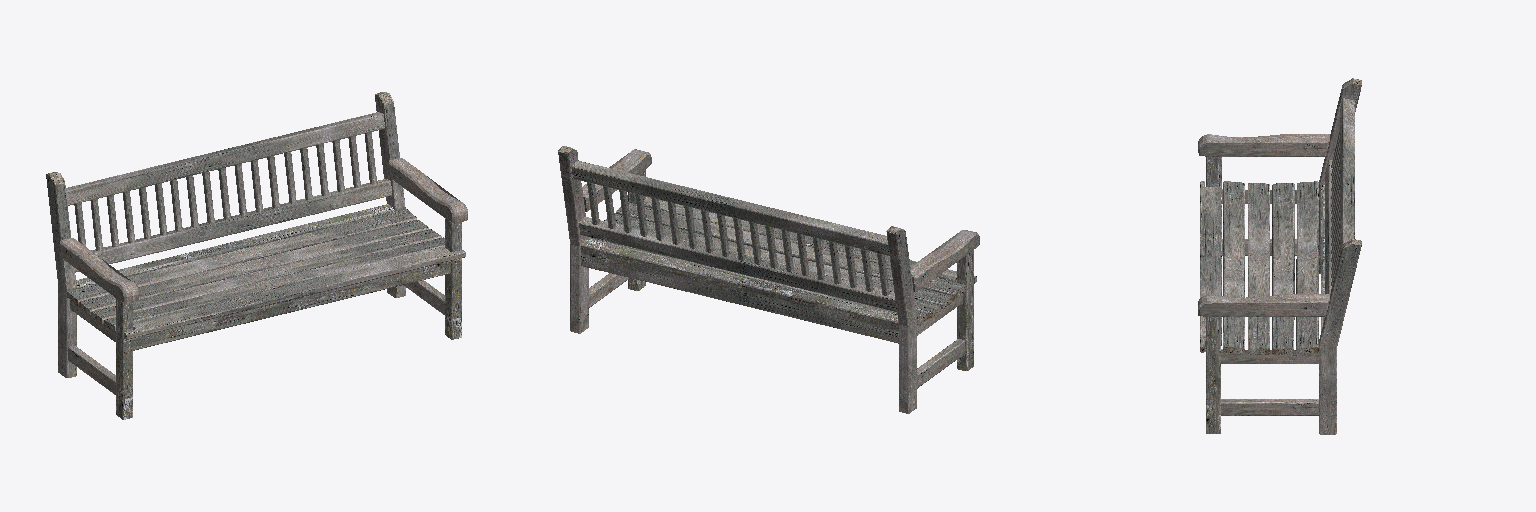
3 views of the same model, side by side, from view 1: azimuth 30°, elevation 25°; view 2: azimuth 150°, elevation 25°; view 3: azimuth 270°, elevation 25° (orthographic).
Parts seen in each view (by area): view 1: Mesh32_tramek06_2_lavicka1_lavicka_01_1_Model, Mesh25_deska03_1_lavicka1_lavicka_01_1_Model, Mesh27_tramek06_1_lavicka1_lavicka_01_1_Model, Mesh22_deska02_4_lavicka1_lavicka_01_1_Model, Mesh3_tramek01_1_lavicka1_lavicka_01_1_Model, Mesh4_deska02_1_lavicka1_lavicka_01_1_Model, Mesh12_deska02_3_lavicka1_lavicka_01_1_Model, Mesh29_tramek03_1_lavicka1_lavicka_01_1_Model, Mesh11_deska02_2_lavicka1_lavicka_01_1_Model, Mesh16_tramek05_1_lavicka1_lavicka_01_1_Model, Mesh34_operka2_lavicka1_lavicka_01_1_Model, Mesh15_tramek02_2_lavicka1_lavicka_01_1_Model (+6 smaller); view 2: Mesh16_tramek05_1_lavicka1_lavicka_01_1_Model, Mesh32_tramek06_2_lavicka1_lavicka_01_1_Model, Mesh27_tramek06_1_lavicka1_lavicka_01_1_Model, Mesh29_tramek03_1_lavicka1_lavicka_01_1_Model, Mesh38_tramek03_2_lavicka1_lavicka_01_1_Model, Mesh11_deska02_2_lavicka1_lavicka_01_1_Model, Mesh12_deska02_3_lavicka1_lavicka_01_1_Model, Mesh15_tramek02_2_lavicka1_lavicka_01_1_Model, Mesh25_deska03_1_lavicka1_lavicka_01_1_Model, Mesh17_operka_bok1_operka1_lavicka1_lavicka_01_1_Model, Mesh31_tramek04_2_lavicka1_lavicka_01_1_Model, Mesh34_operka2_lavicka1_lavicka_01_1_Model (+3 smaller); view 3: Mesh38_tramek03_2_lavicka1_lavicka_01_1_Model, Mesh4_deska02_1_lavicka1_lavicka_01_1_Model, Mesh11_deska02_2_lavicka1_lavicka_01_1_Model, Mesh22_deska02_4_lavicka1_lavicka_01_1_Model, Mesh12_deska02_3_lavicka1_lavicka_01_1_Model, Mesh18_operka1_lavicka1_lavicka_01_1_Model, Mesh25_deska03_1_lavicka1_lavicka_01_1_Model, Mesh32_tramek06_2_lavicka1_lavicka_01_1_Model, Mesh33_operka_bok2_operka2_lavicka1_lavicka_01_1_Model, Mesh10_tramek02_1_lavicka1_lavicka_01_1_Model, Mesh6_tramek04_1_lavicka1_lavicka_01_1_Model, Mesh29_tramek03_1_lavicka1_lavicka_01_1_Model (+3 smaller).
Boxes of the visible parts, <box> form: Mesh32_tramek06_2_lavicka1_lavicka_01_1_Model: <box>66,112,384,205</box>; Mesh25_deska03_1_lavicka1_lavicka_01_1_Model: <box>124,247,465,339</box>; Mesh27_tramek06_1_lavicka1_lavicka_01_1_Model: <box>75,179,391,272</box>; Mesh22_deska02_4_lavicka1_lavicka_01_1_Model: <box>67,209,416,305</box>; Mesh3_tramek01_1_lavicka1_lavicka_01_1_Model: <box>133,261,450,350</box>; Mesh4_deska02_1_lavicka1_lavicka_01_1_Model: <box>79,220,429,315</box>; Mesh12_deska02_3_lavicka1_lavicka_01_1_Model: <box>91,229,441,323</box>; Mesh29_tramek03_1_lavicka1_lavicka_01_1_Model: <box>46,172,76,377</box>; Mesh11_deska02_2_lavicka1_lavicka_01_1_Model: <box>104,237,444,331</box>; Mesh16_tramek05_1_lavicka1_lavicka_01_1_Model: <box>76,204,394,288</box>; Mesh34_operka2_lavicka1_lavicka_01_1_Model: <box>389,158,467,223</box>; Mesh15_tramek02_2_lavicka1_lavicka_01_1_Model: <box>116,298,132,419</box>; Mesh16_tramek05_1_lavicka1_lavicka_01_1_Model: <box>581,240,898,343</box>; Mesh32_tramek06_2_lavicka1_lavicka_01_1_Model: <box>572,160,889,255</box>; Mesh27_tramek06_1_lavicka1_lavicka_01_1_Model: <box>579,217,896,311</box>; Mesh29_tramek03_1_lavicka1_lavicka_01_1_Model: <box>886,226,916,413</box>; Mesh38_tramek03_2_lavicka1_lavicka_01_1_Model: <box>558,146,588,333</box>; Mesh11_deska02_2_lavicka1_lavicka_01_1_Model: <box>616,202,965,298</box>; Mesh12_deska02_3_lavicka1_lavicka_01_1_Model: <box>604,213,953,308</box>; Mesh15_tramek02_2_lavicka1_lavicka_01_1_Model: <box>957,250,973,370</box>; Mesh25_deska03_1_lavicka1_lavicka_01_1_Model: <box>644,197,976,283</box>; Mesh17_operka_bok1_operka1_lavicka1_lavicka_01_1_Model: <box>914,233,979,292</box>; Mesh31_tramek04_2_lavicka1_lavicka_01_1_Model: <box>917,339,964,388</box>; Mesh34_operka2_lavicka1_lavicka_01_1_Model: <box>582,149,651,211</box>; Mesh38_tramek03_2_lavicka1_lavicka_01_1_Model: <box>1319,239,1361,434</box>; Mesh4_deska02_1_lavicka1_lavicka_01_1_Model: <box>1272,183,1294,354</box>; Mesh11_deska02_2_lavicka1_lavicka_01_1_Model: <box>1223,181,1244,353</box>; Mesh22_deska02_4_lavicka1_lavicka_01_1_Model: <box>1296,181,1318,353</box>; Mesh12_deska02_3_lavicka1_lavicka_01_1_Model: <box>1248,183,1269,354</box>; Mesh18_operka1_lavicka1_lavicka_01_1_Model: <box>1198,134,1329,156</box>; Mesh25_deska03_1_lavicka1_lavicka_01_1_Model: <box>1200,181,1221,352</box>; Mesh32_tramek06_2_lavicka1_lavicka_01_1_Model: <box>1340,98,1354,251</box>; Mesh33_operka_bok2_operka2_lavicka1_lavicka_01_1_Model: <box>1198,301,1328,316</box>; Mesh10_tramek02_1_lavicka1_lavicka_01_1_Model: <box>1206,317,1220,433</box>; Mesh6_tramek04_1_lavicka1_lavicka_01_1_Model: <box>1221,399,1318,415</box>; Mesh29_tramek03_1_lavicka1_lavicka_01_1_Model: <box>1319,78,1361,273</box>.
Bounding box in the file's own units: 2.17 × 1.15 × 0.8948.
Materials: 6 (5 with a texture image).